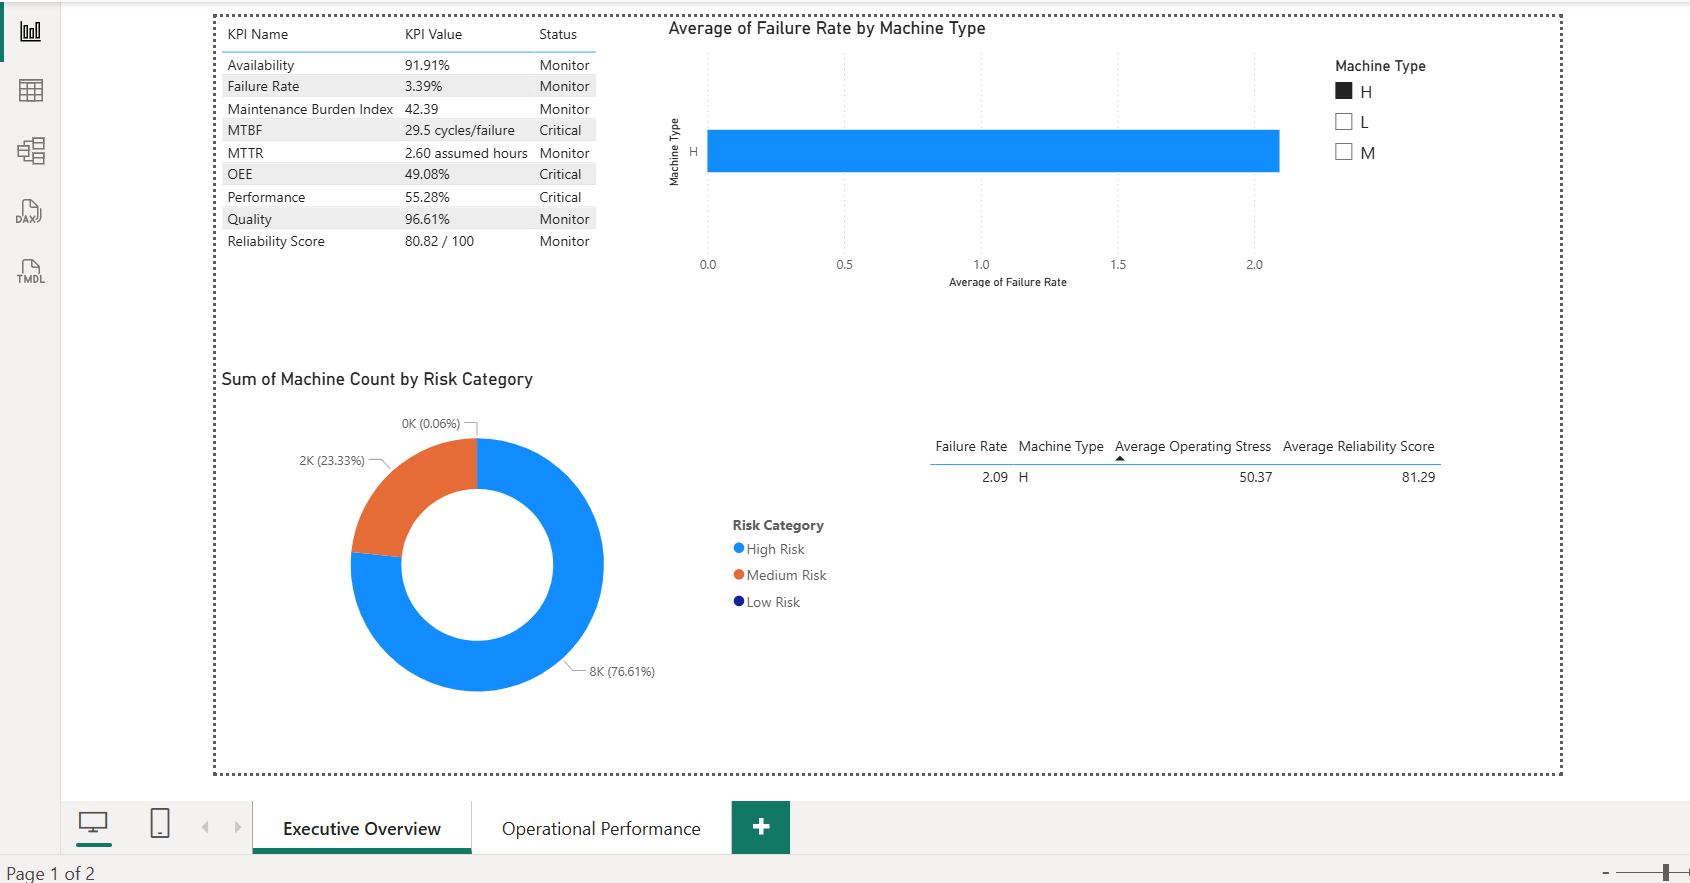

What the dashboard file says about the page in this screenshot:
{"tool":"powerbi","page":{"name":"Executive Overview","canvas":[1280,720],"ordinal":0},"visuals":[{"type":"tableEx","fields":{"Values":["kpi_summary.KPI Name","kpi_summary.KPI Value","kpi_summary.Status"]},"box":[0,0,425,360],"z":0},{"type":"clusteredBarChart","fields":{"Category":["machine_type_summary.Machine Type"],"Y":["Avg(machine_type_summary.Failure Rate)"]},"box":[425,0,627.5,262.5],"z":1000},{"type":"donutChart","fields":{"Category":["risk_summary.Risk Category"],"Y":["Sum(risk_summary.Machine Count)"]},"box":[0,335,600,355],"z":2000},{"type":"tableEx","fields":{"Values":["machine_type_summary.Failure Rate","machine_type_summary.Machine Type","machine_type_summary.Average Operating Stress","machine_type_summary.Average Reliability Score"]},"box":[675,392.5,582.5,255],"z":3000},{"type":"slicer","fields":{"Values":["machine_type_summary.Machine Type"]},"box":[1052.5,32.5,205,230],"z":4000}]}

Visuals, with their boxes on the page's 1280x720 design canvas (x1, y1, x2, y2). These are canvas units, not pixel positions in the 1690x883 screenshot, which may show the page scaled, cropped or inside an application window:
tableEx - kpi_summary.KPI Name x kpi_summary.KPI Value: crop(0, 0, 425, 360)
clusteredBarChart - machine_type_summary.Machine Type x Avg(machine_type_summary.Failure Rate): crop(425, 0, 1052, 262)
donutChart - risk_summary.Risk Category x Sum(risk_summary.Machine Count): crop(0, 335, 600, 690)
tableEx - machine_type_summary.Failure Rate x machine_type_summary.Machine Type: crop(675, 392, 1258, 648)
slicer - machine_type_summary.Machine Type: crop(1052, 32, 1258, 262)
